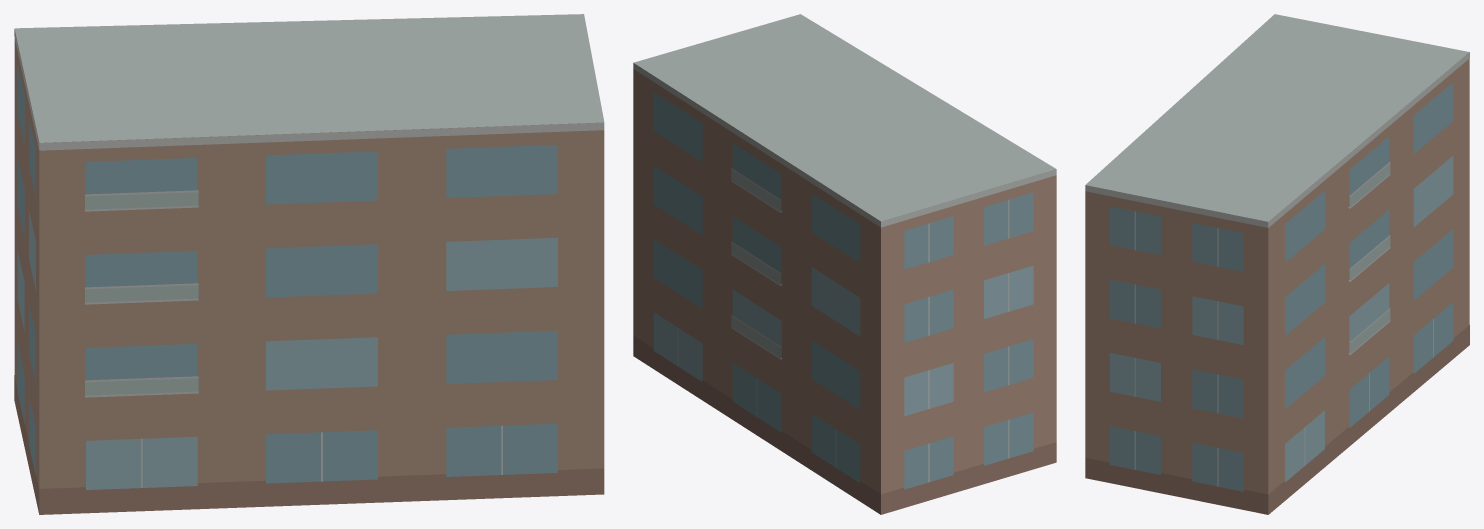
Rendered from survey-upis-32941085.glb.
3 views of the same model, side by side, from view 1: azimuth 30°, elevation 25°; view 2: azimuth 150°, elevation 25°; view 3: azimuth 270°, elevation 25° (orthographic). The views are drawn at different scales.
Parts seen in each view (by area): view 1: survey-upis-32941085.tmp; view 2: survey-upis-32941085.tmp; view 3: survey-upis-32941085.tmp.
Part boxes in pixels (x1=…): survey-upis-32941085.tmp: x1=14, y1=14, x2=604, y2=514; survey-upis-32941085.tmp: x1=633, y1=14, x2=1056, y2=514; survey-upis-32941085.tmp: x1=1085, y1=14, x2=1469, y2=514.
Bounding box in the file's own units: 17.81 × 11.7 × 13.93.
